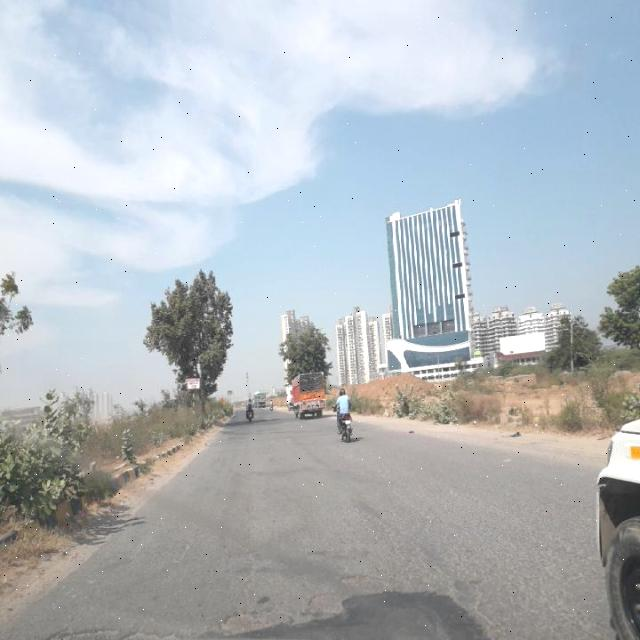D40: (208, 564, 420, 634)
